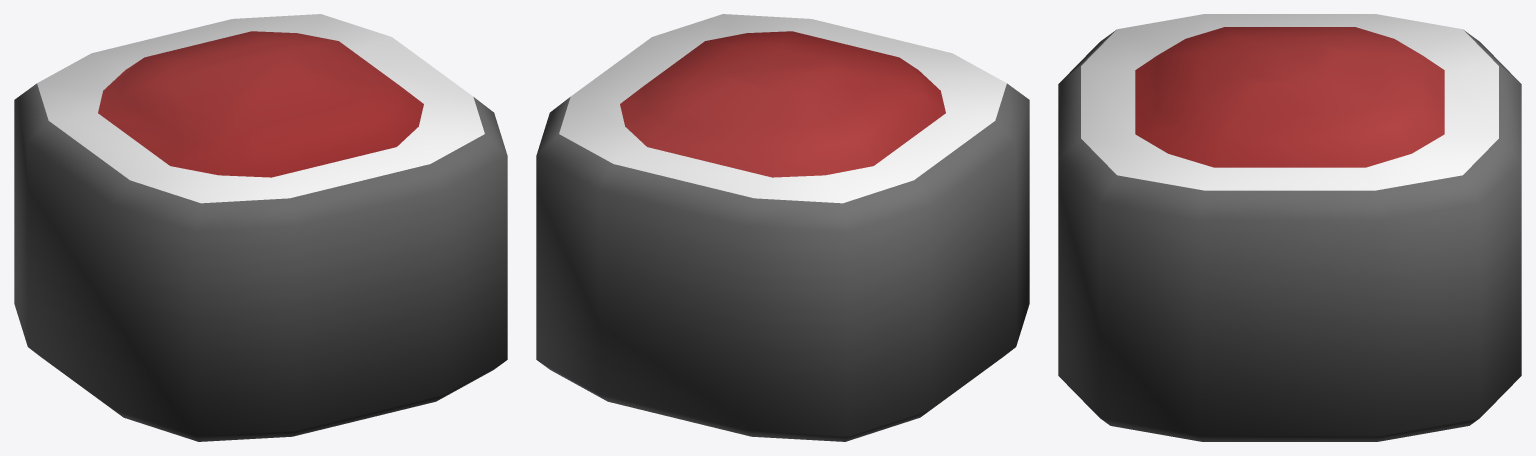
File: Sushi Food_6.fbx
The picture shows the model from 3 angles, left to right: view 1: azimuth 30°, elevation 25°; view 2: azimuth 150°, elevation 25°; view 3: azimuth 270°, elevation 25°; orthographic projection. The views are drawn at different scales.
Parts seen in each view (by area): view 1: Sushi Food_6; view 2: Sushi Food_6; view 3: Sushi Food_6.
Boxes of the visible parts, x1,y1,x2,y2 form: Sushi Food_6: (14, 14, 507, 441); Sushi Food_6: (536, 14, 1029, 441); Sushi Food_6: (1058, 14, 1521, 441).
Bounding box in the file's own units: 0.0452 × 0.0308 × 0.0452.
